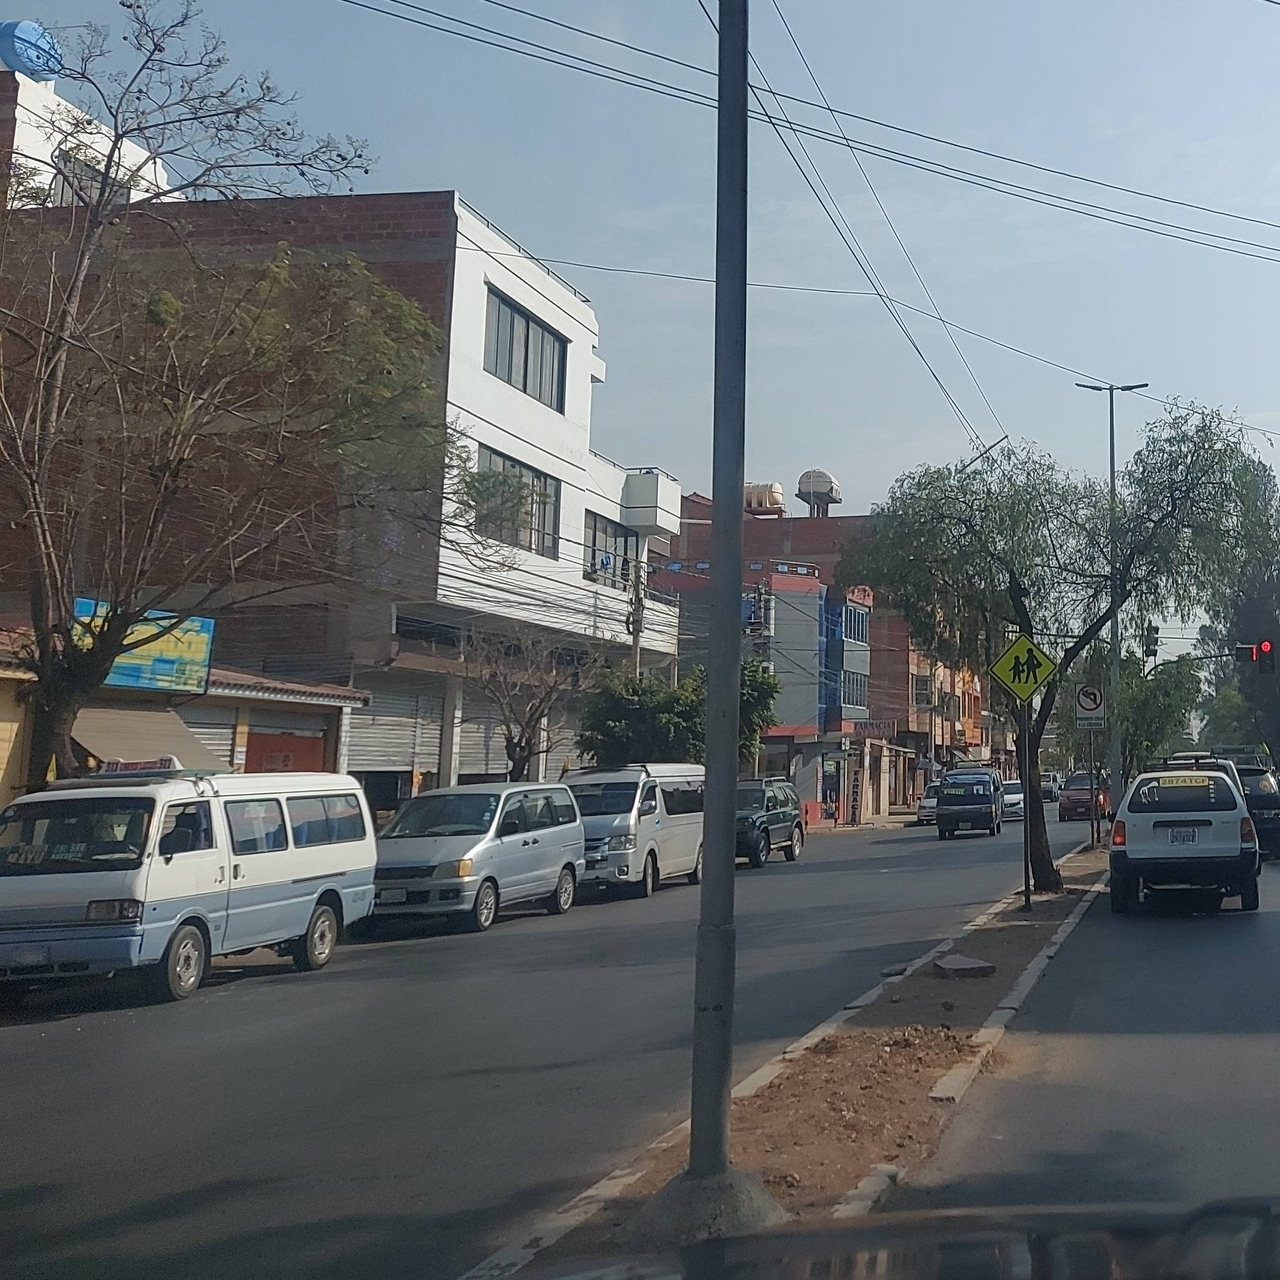prohibido-girar-izquierda: (1074, 680, 1108, 733)
zona-escolar: (985, 633, 1063, 706)
